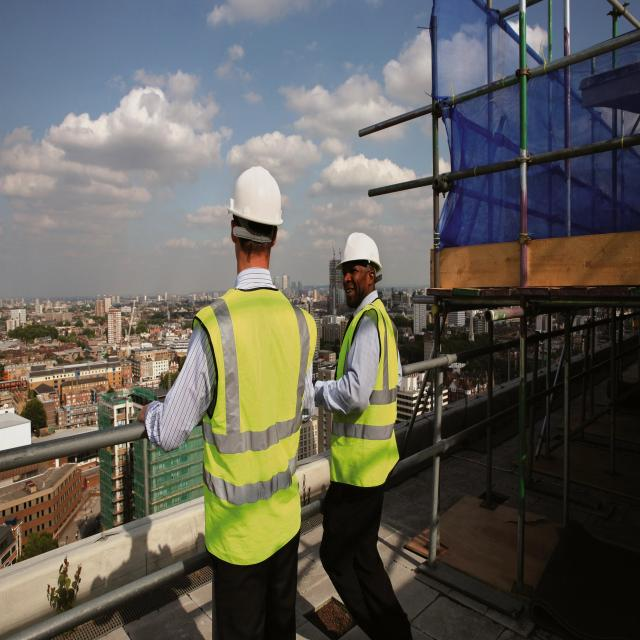head_helmet: (228, 164, 283, 229), (334, 232, 383, 272)
person: (196, 183, 317, 640), (322, 235, 408, 640)
vest: (193, 286, 313, 572), (329, 301, 404, 485)
